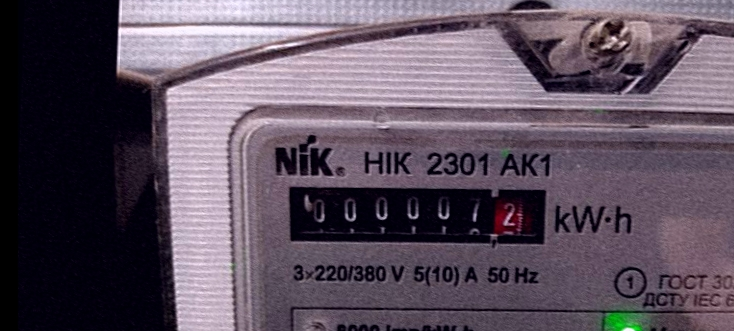0: (312, 196, 330, 224), (375, 193, 392, 222), (406, 194, 424, 221), (344, 195, 361, 223), (438, 194, 454, 222)
2: (503, 201, 520, 228)
7: (469, 194, 485, 225)
screen: (278, 174, 561, 257)
